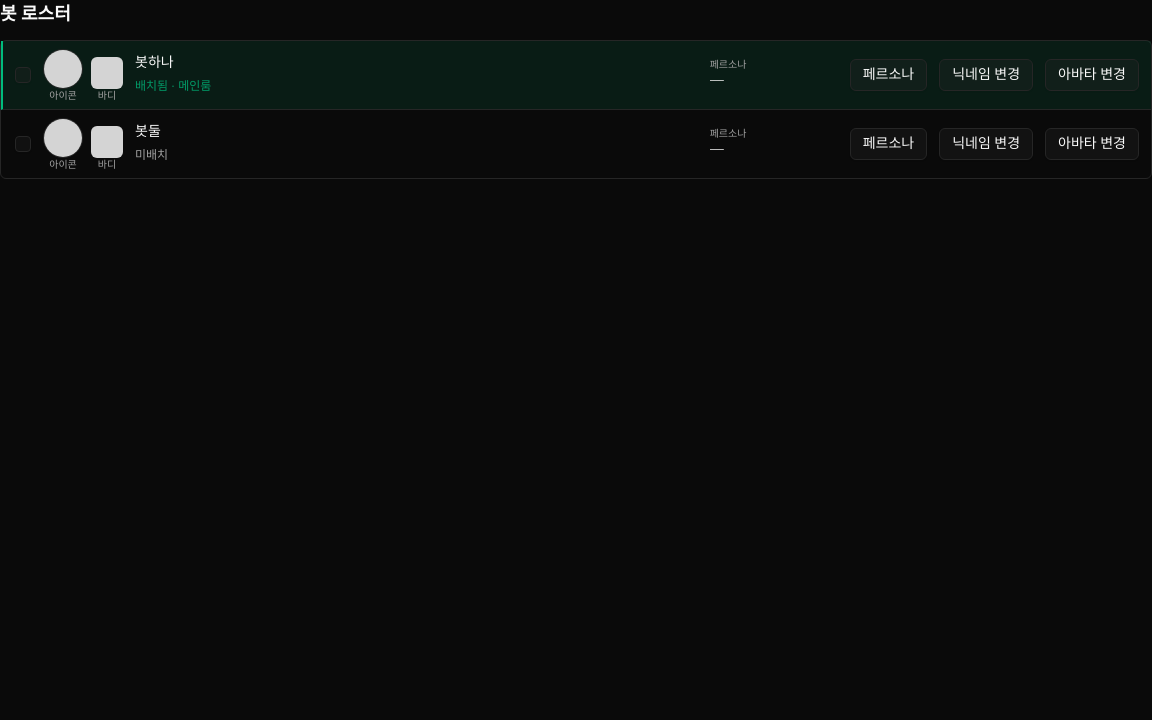
Test: BotRoster › idle 봇 선택 → 선택 제거 → 확인 다이얼로그 → 제거 성공 시 선택 해제
The width and height of the screenshot is (1152, 720).
Check: the text "봇둘" is shown, box [135,124,161,139]
Click the checkbox named "봇둘 선택".
click(23, 144)  # box [15,136,31,152]
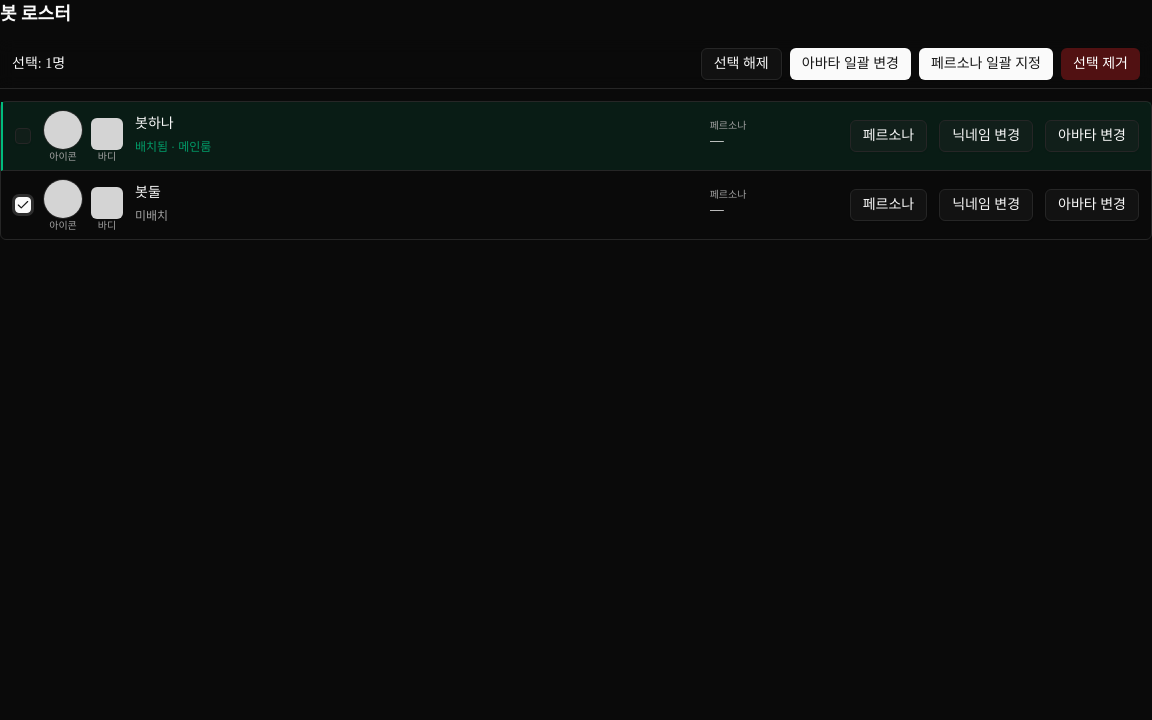
Click the button "선택 제거".
click(1100, 64)  # box [1061,48,1140,80]
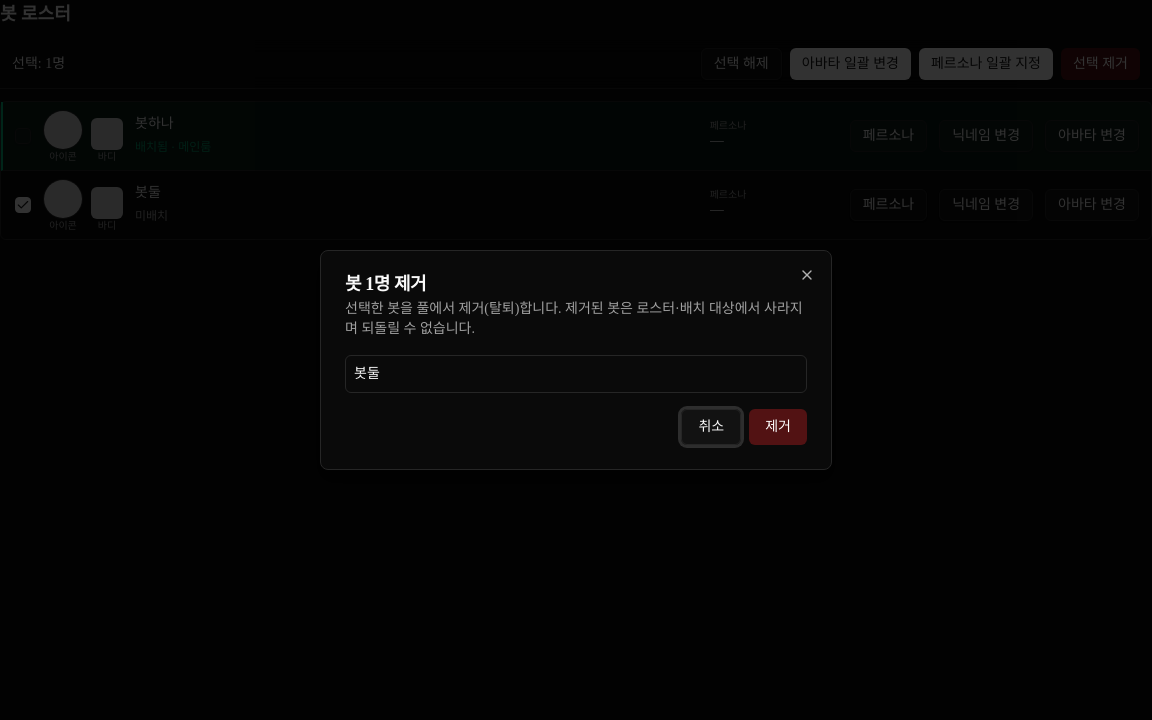
Check: the heading "봇 1명 제거" is shown, box [345,274,426,294]
Click the button "제거".
click(778, 427)  # box [749,409,807,445]
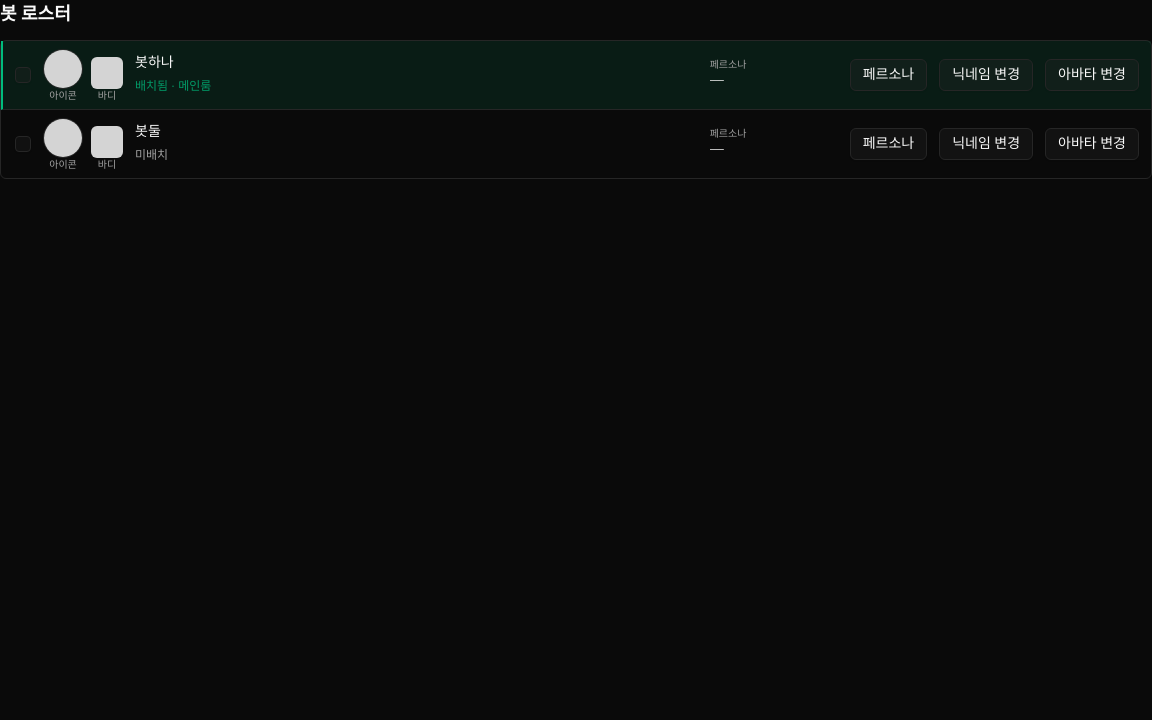
Check: the text "선택: 1명" is gone
